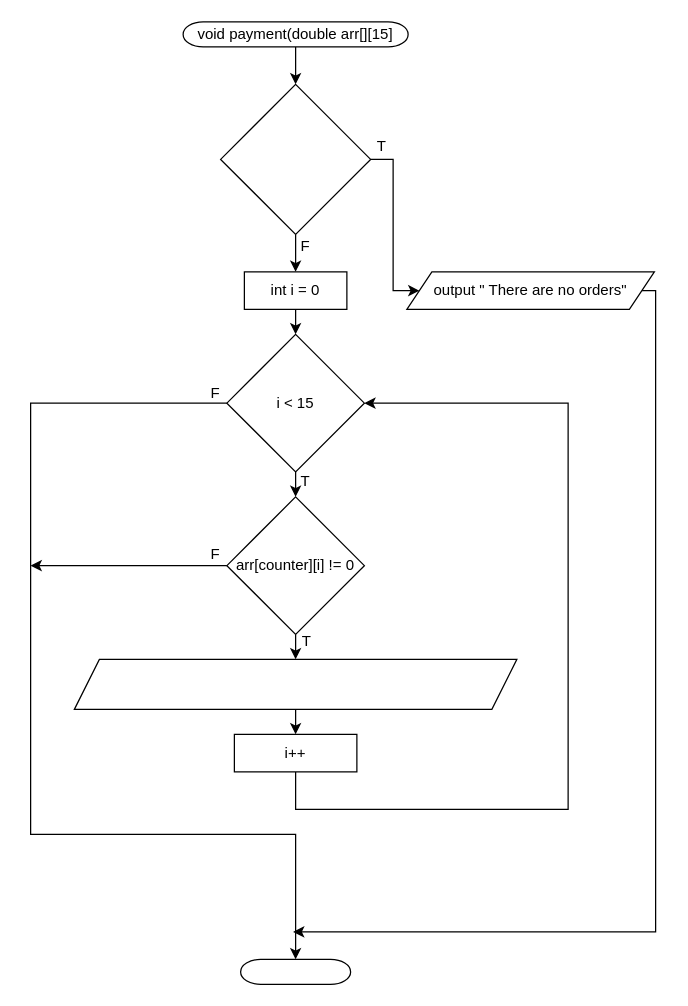
This 688x1006 diagram has some shape labels left out. The box of each missing label's shape, as (x1, y1, x2, y2) in pixels:
arr[counter][0] == 0: (219, 83, 371, 234)
cout << " Order " << i + 1 << arr[counter][i] << "$" << endl: (73, 658, 517, 709)
END: (239, 958, 351, 984)
